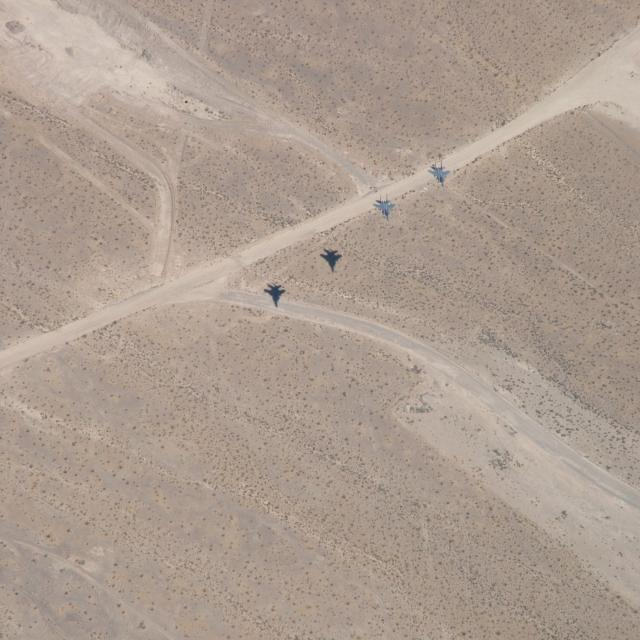MIL_Plane: (372, 193, 397, 222), (427, 159, 451, 189)
